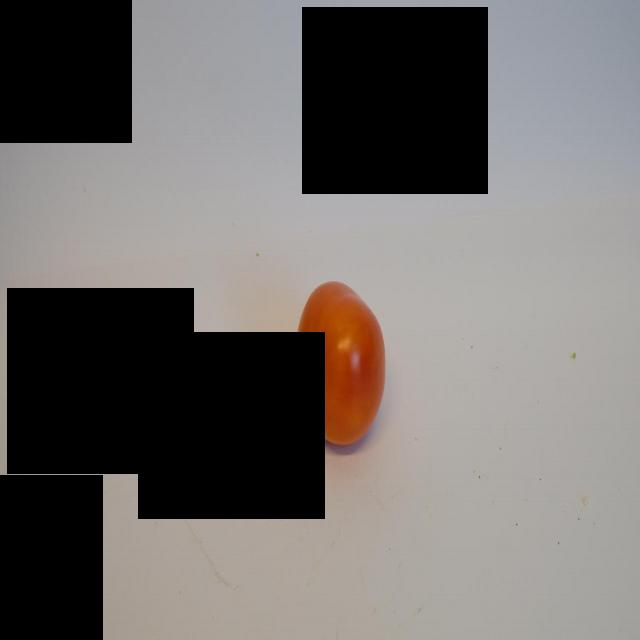tomato: (299, 281, 388, 462)
